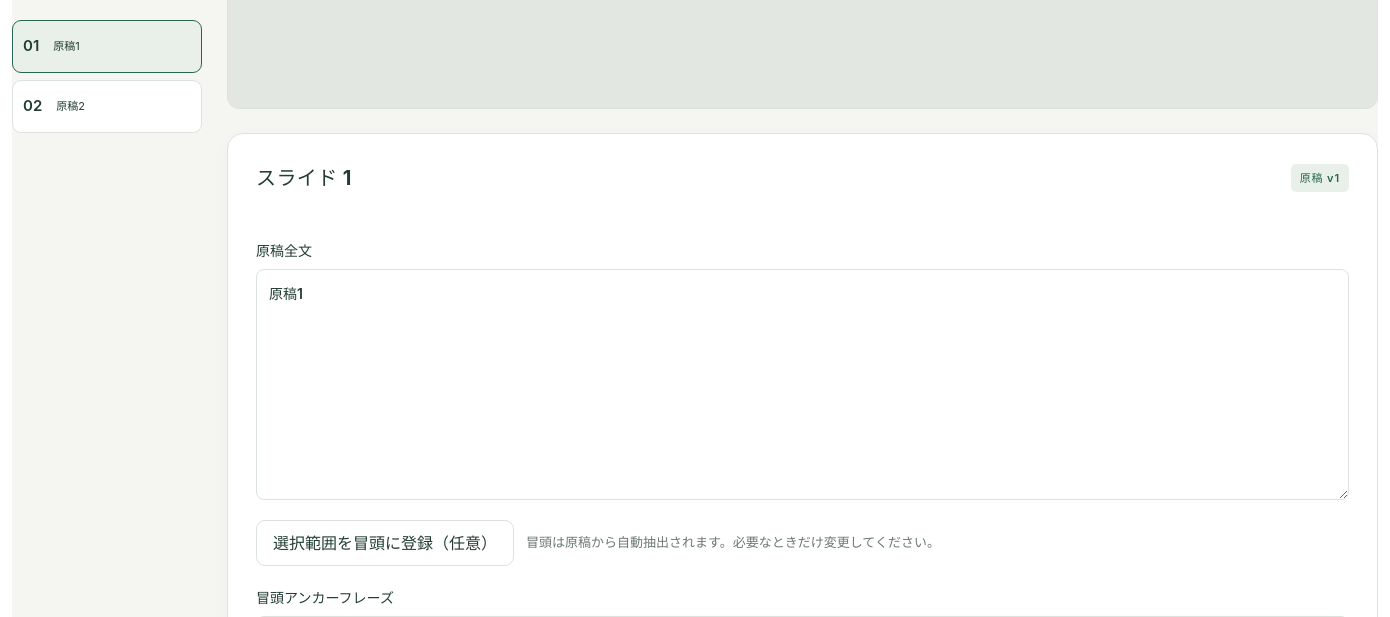
Test: editor durable autosave › serializes writes and coalesces waiting edits without losing the newest revision
The image size is (1390, 617).
Later steps or results of the test are not shown.
(page scrolled)
Replace the text in the text box labelled "原稿全文" with "First": (802, 384) [256,269,1349,500]
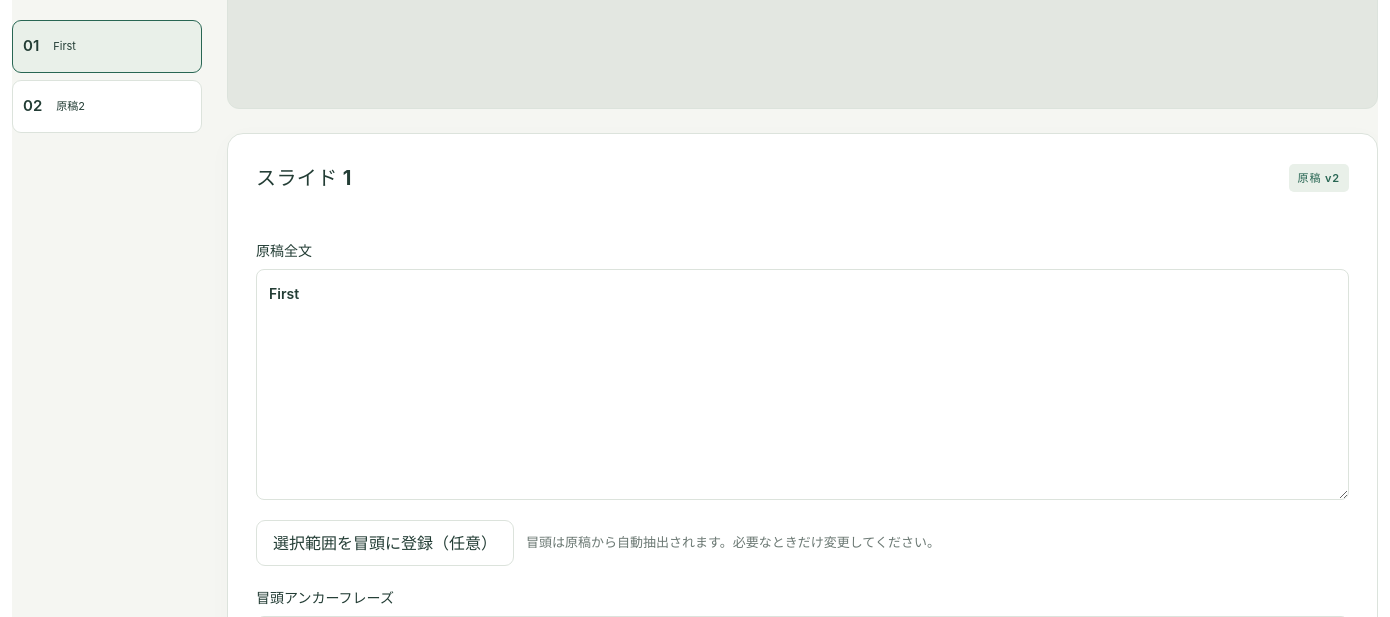
Replace the text in the text box labelled "原稿全文" with "Second": (802, 384) [256,269,1349,500]
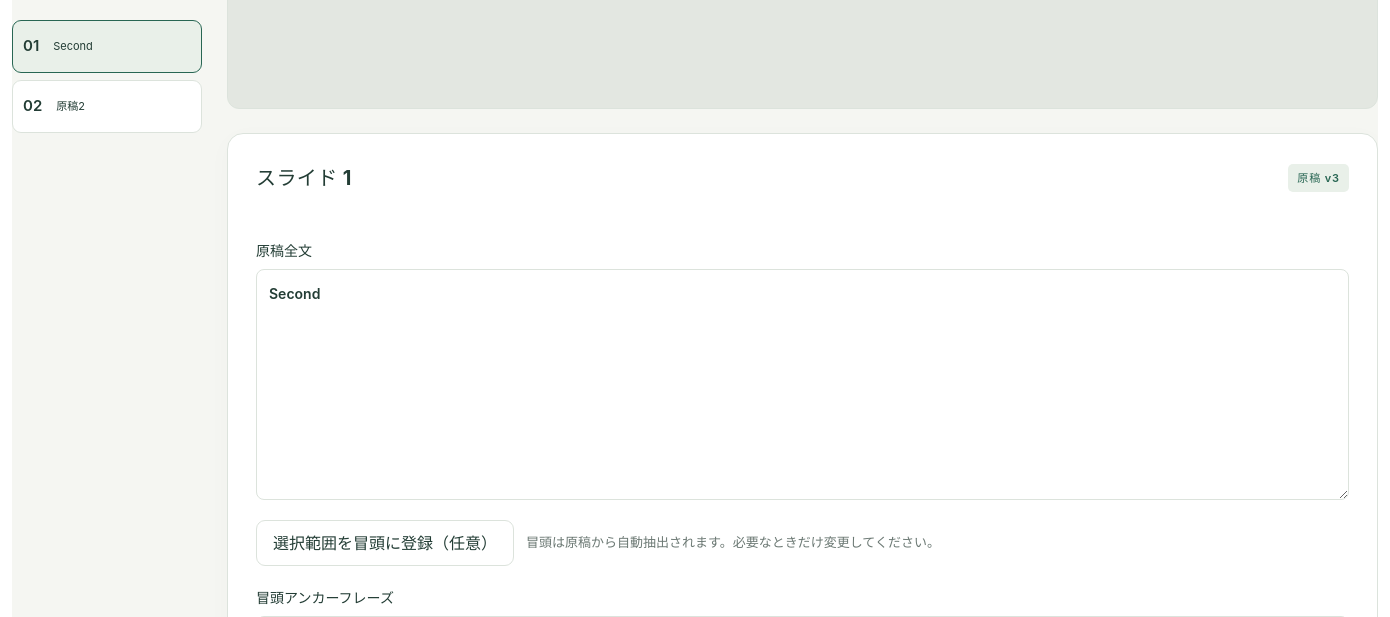
Replace the text in the text box labelled "原稿全文" with "Final": (802, 384) [256,269,1349,500]
(page scrolled)
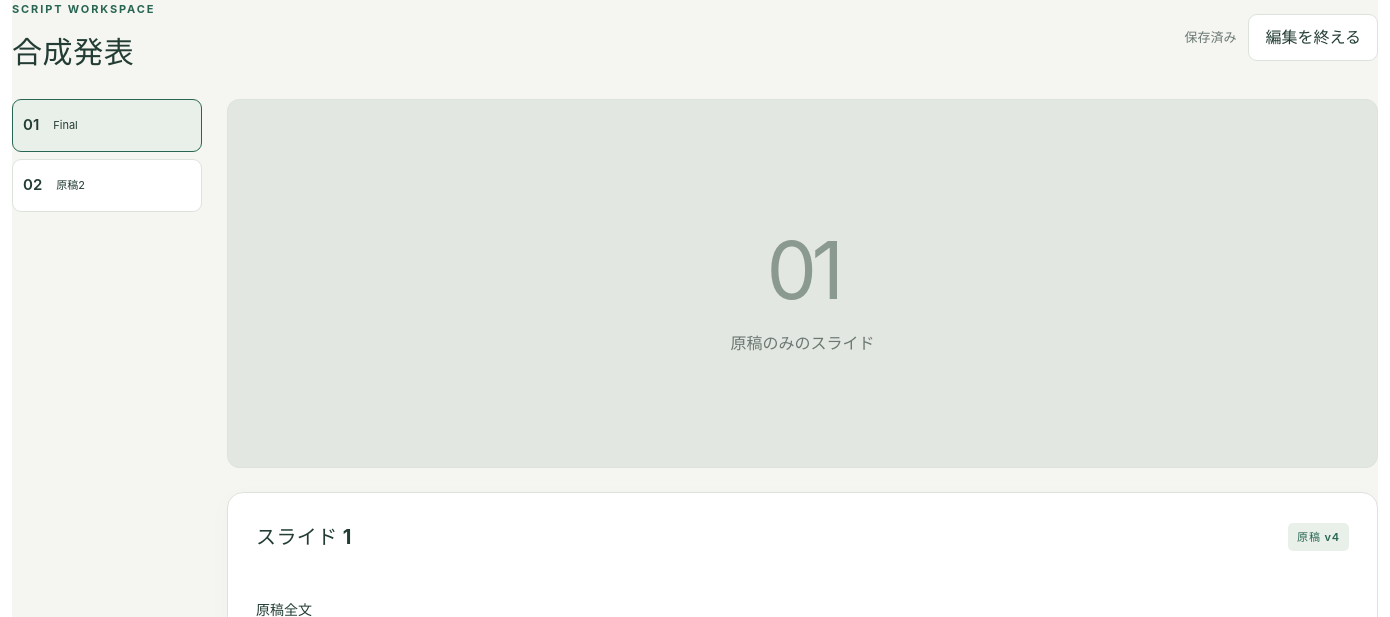
Result: the message reads "保存済み" at [1184,29,1236,45]
